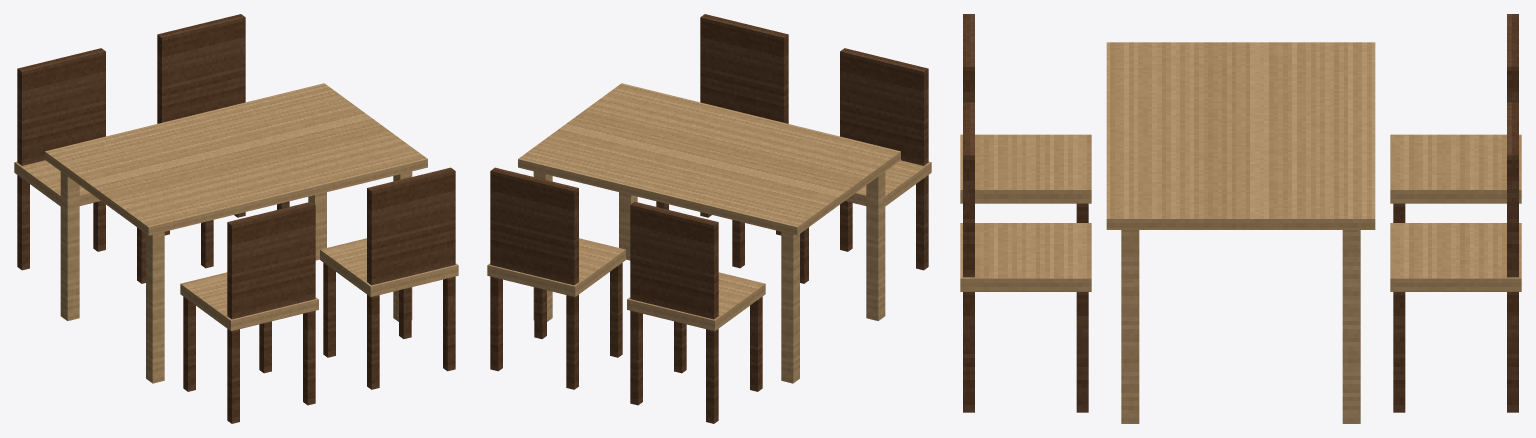
The model's file is dining_set.glb.
3 renders of one model, left to right at view 1: azimuth 30°, elevation 25°; view 2: azimuth 150°, elevation 25°; view 3: azimuth 270°, elevation 25°, orthographic. The views are drawn at different scales.
Visible parts, largest first — view 1: dining_set; view 2: dining_set; view 3: dining_set.
Part boxes in pixels (x1,y1,x2,y2): dining_set: [14, 14, 458, 423]; dining_set: [487, 14, 931, 423]; dining_set: [960, 14, 1521, 423].
Bounding box in the file's own units: 1.4 × 0.95 × 1.88.
2 materials, 2 textured.
